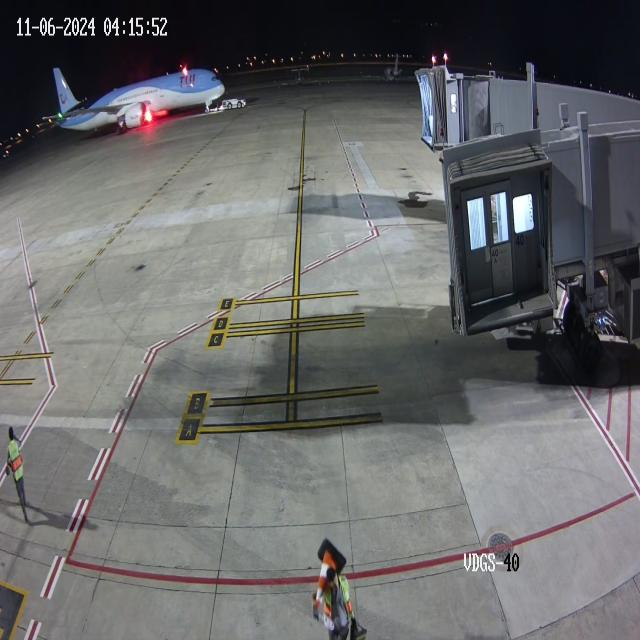bridge: (434, 63, 492, 148)
plane: (34, 8, 251, 144)
window: (210, 74, 222, 83)
